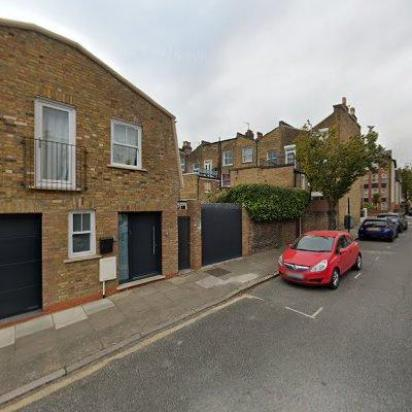stationary-car-onstreet: (276, 230, 364, 292), (358, 215, 397, 244), (382, 211, 408, 230)
